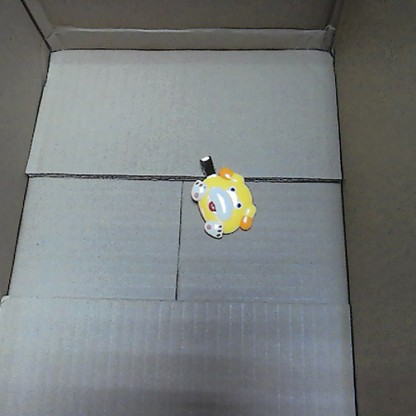dogclip: (185, 153, 258, 240)
